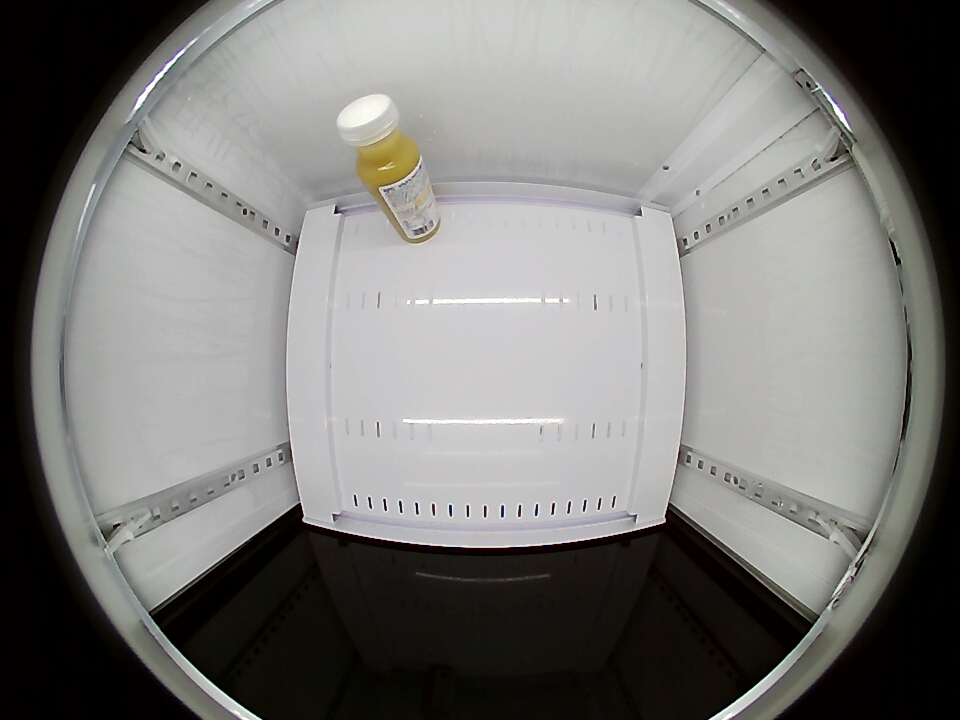nfc: (337, 94, 424, 187)
